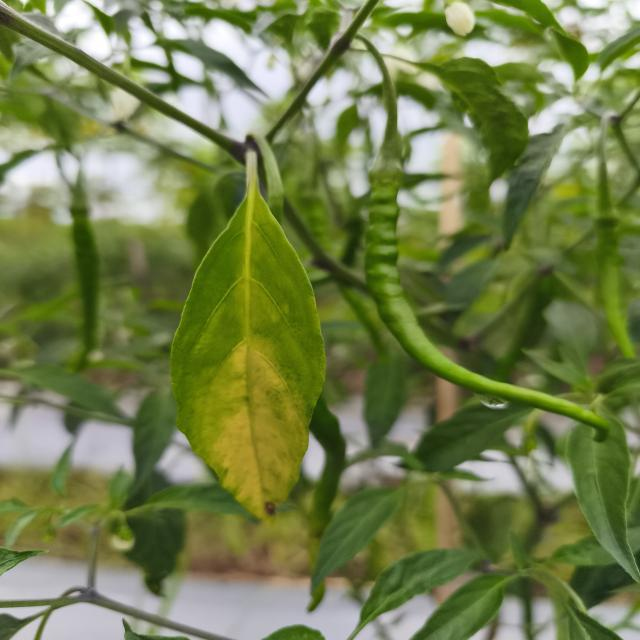Buah Cabai Sehat: (360, 135, 609, 443)
Virus Kuning: (168, 181, 328, 521)
